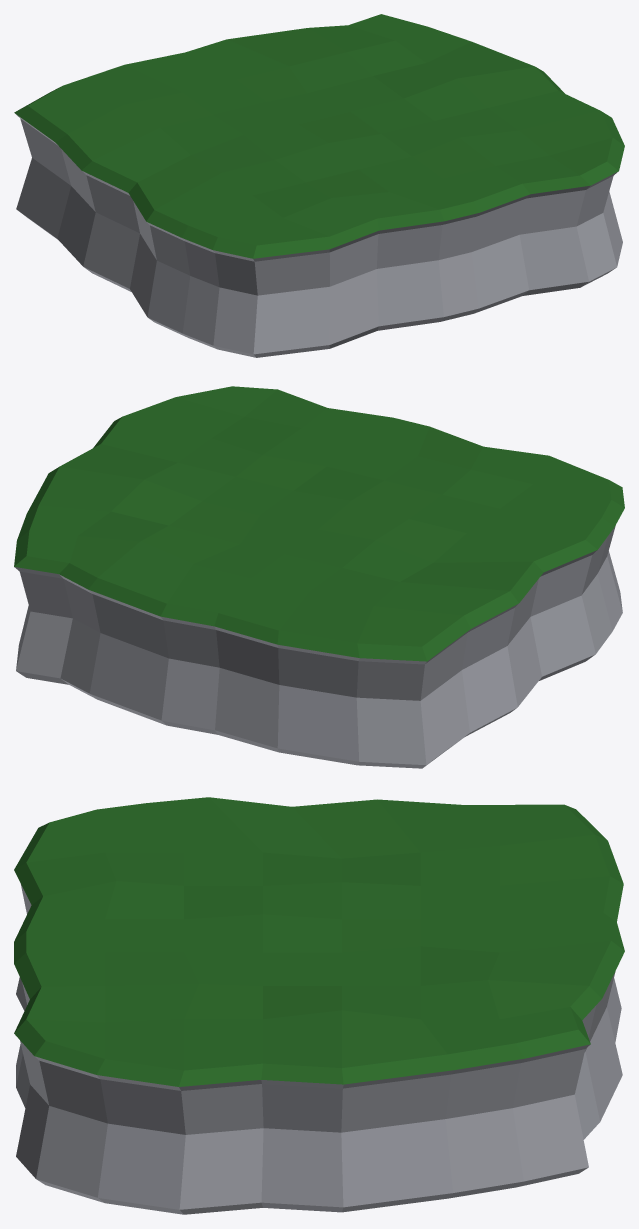
File: cliff3.fbx
The picture shows the model from 3 angles, top to bottom: view 1: azimuth 30°, elevation 25°; view 2: azimuth 150°, elevation 25°; view 3: azimuth 270°, elevation 25°; orthographic projection. The views are drawn at different scales.
Visible parts, largest first — view 1: Plane.001; view 2: Plane.001; view 3: Plane.001.
Boxes of the visible parts, x1,y1,x2,y2 form: Plane.001: (14, 14, 624, 357); Plane.001: (14, 386, 624, 768); Plane.001: (14, 797, 624, 1214).
Bounding box in the file's own units: 244 × 61.06 × 221.
